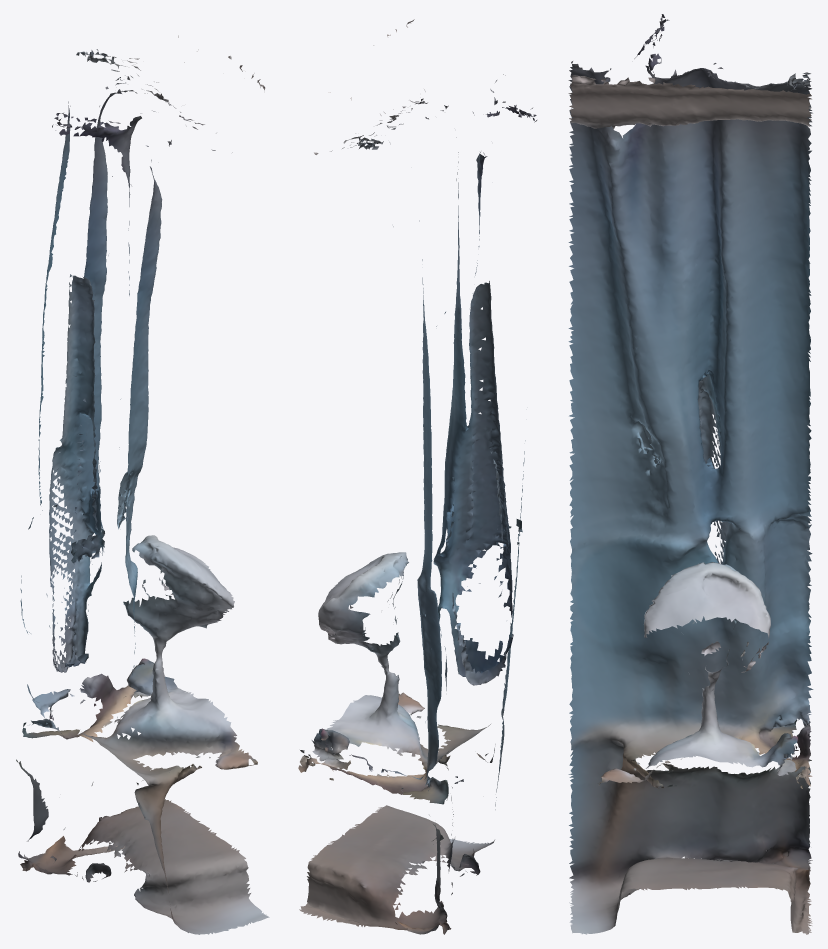
Rendered from apartment-full-1-56eea91ca362.glb.
3 renders of one model, left to right at view 1: azimuth 30°, elevation 25°; view 2: azimuth 150°, elevation 25°; view 3: azimuth 270°, elevation 25°, orthographic. The views are drawn at different scales.
Size of the model in its own units: 0.409 by 1.85 by 0.478.
